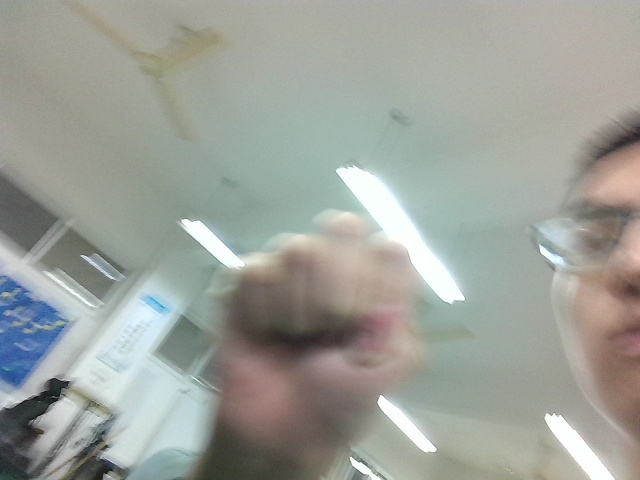stone: (210, 200, 432, 467)
